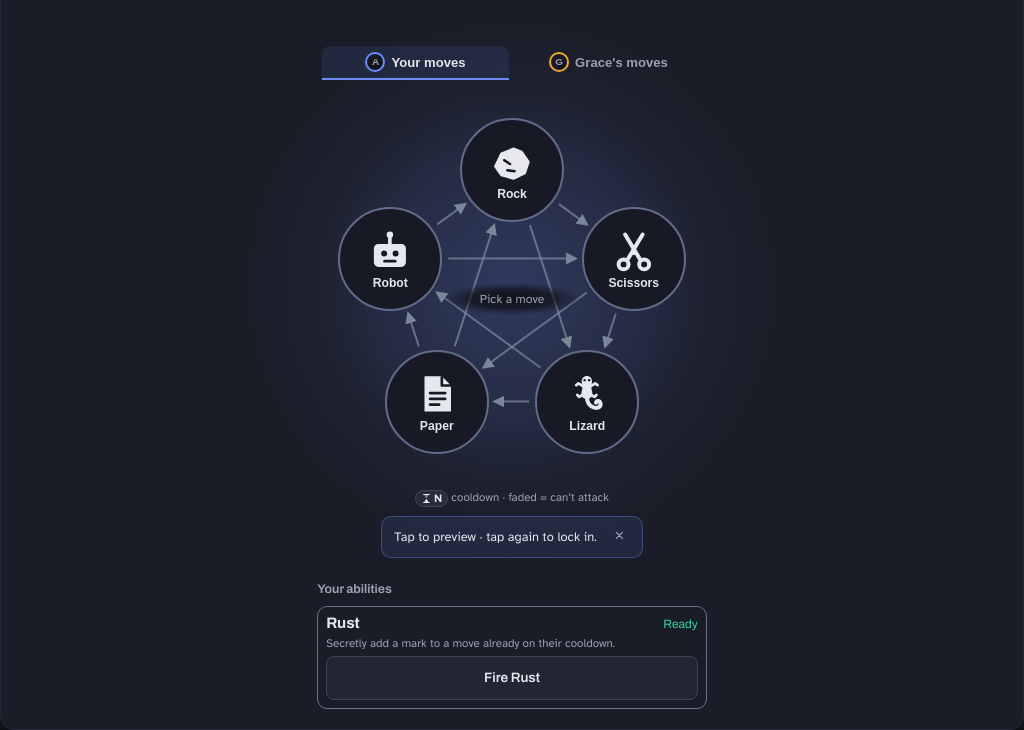
Test: <Board> firing names its target on the board (JQ-325) › opens their board with the instruction when a firing starts
This screenshot has width=1024, height=730.
(page scrolled)
Click the button "Fire Rust" at (512, 678), box [326,656,698,700]
(page scrolled)
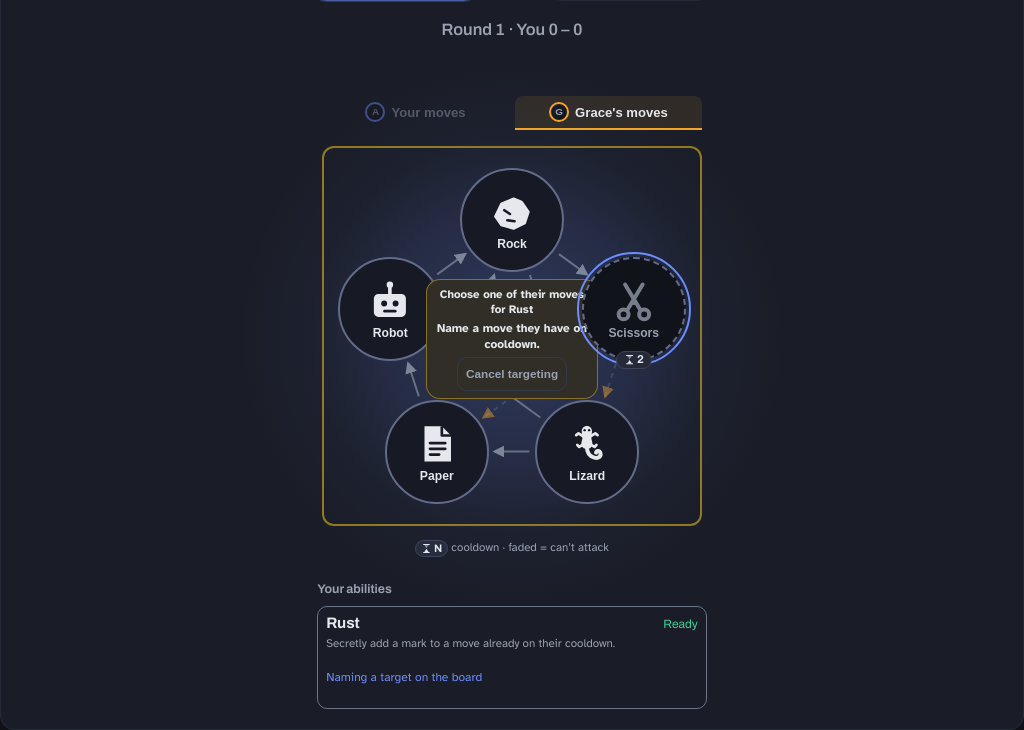
Now the text "Choose one of their moves for Rust" is shown, box [437,287,587,317]
Now the text "Naming a target on the board" is shown, box [326,670,482,684]
